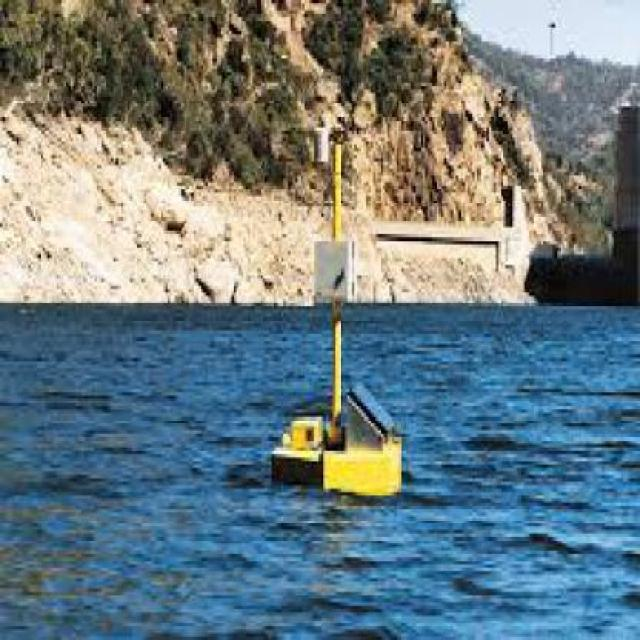buoy: (258, 376, 416, 517)
